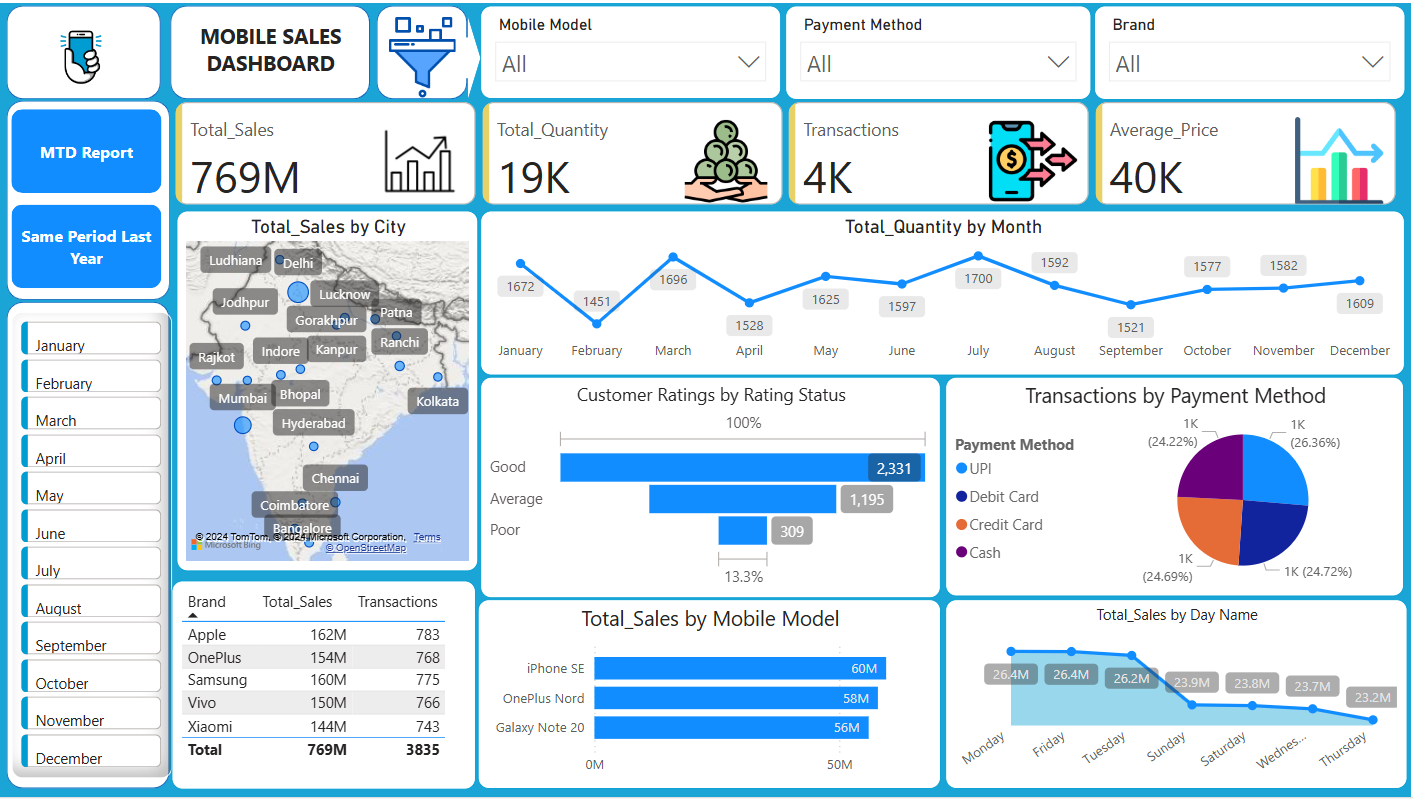

The dashboard page shown, as its layout file describes it:
{"tool":"powerbi","page":{"name":"Dashboard","canvas":[1280,720],"ordinal":0},"visuals":[{"type":"shape","box":[6.9,2.7,140,85],"z":0},{"type":"image","box":[28.8,12.4,92,72.8],"z":1000},{"type":"shape","box":[7.2,271.4,148,441.6],"z":3000},{"type":"advancedSlicerVisual","fields":{"Values":["Custom_Calender.Date.Variation.Date Hierarchy.Month"]},"box":[10.9,279.9,146,423.5],"z":4000},{"type":"cardVisual","fields":{"Data":["Sales_Data.Total_Sales","Sales_Data.Total_Quantity","Sales_Data.Transactions","Sales_Data.Average_Price"]},"box":[155.6,84.5,1119.6,103.8],"z":5000},{"type":"slicer","fields":{"Values":["Sales_Data.Mobile Model"]},"box":[436.6,2.7,273.1,85],"z":6000},{"type":"slicer","fields":{"Values":["Sales_Data.Payment Method"]},"box":[712.6,2.4,277.5,85.7],"z":7000},{"type":"slicer","fields":{"Values":["Sales_Data.Brand"]},"box":[992.9,2.4,282.3,85.7],"z":8000},{"type":"shape","box":[342,2.7,82.3,85],"z":9000},{"type":"image","box":[272,6.9,223.9,85.2],"z":10000},{"type":"shape","box":[413.8,12.1,22.9,74.8],"z":11000},{"type":"shape","box":[155.2,2.7,181.3,85],"z":12000},{"type":"textbox","box":[159.5,12.3,172.9,65.9],"z":13000},{"type":"map","fields":{"Category":["Sales_Data.City"],"Size":["Sales_Data.Total_Sales"]},"box":[160.5,188.2,273.9,326.9],"z":14000},{"type":"lineChart","fields":{"Y":["Sales_Data.Total_Quantity"],"Category":["Custom_Calender.Date.Variation.Date Hierarchy.Month"]},"box":[436.7,188.2,838.5,149.6],"z":15000},{"type":"funnel","title":"Customer Ratings by Rating Status","fields":{"Y":["CountNonNull(Sales_Data.Customer Ratings)"],"Category":["Sales_Data.Rating Status"]},"box":[436.8,339.3,417.6,200.6],"z":16000},{"type":"pieChart","fields":{"Category":["Sales_Data.Payment Method"],"Y":["Sales_Data.Transactions"]},"box":[858.6,339.3,416.2,199.2],"z":17000},{"type":"clusteredBarChart","fields":{"Y":["Sales_Data.Total_Sales"],"Category":["Sales_Data.Mobile Model"]},"box":[434.1,541.2,420.3,171.7],"z":18000},{"type":"areaChart","fields":{"Category":["Custom_Calender.Day Name"],"Y":["Sales_Data.Total_Sales"]},"box":[858.6,541.2,419,171.7],"z":19000},{"type":"tableEx","fields":{"Values":["Sales_Data.Brand","Sales_Data.Total_Sales","Sales_Data.Transactions"]},"box":[156.8,523.6,276.3,189.4],"z":20000},{"type":"shape","box":[7.2,88.1,148.4,181],"z":21000},{"type":"pageNavigator","box":[10.9,96.5,136.3,162.9],"z":22000}]}

Visuals, with their boxes in screenshot pixels (x1, y1, x2, y2), scaled from the page's 1280x720 canvas onto the 1413x799 screenshot:
shape: bbox=(8, 3, 162, 97)
image: bbox=(32, 14, 133, 95)
shape: bbox=(8, 301, 171, 791)
advancedSlicerVisual - Custom_Calender.Date.Variation.Date Hierarchy.Month: bbox=(12, 311, 173, 781)
cardVisual - Sales_Data.Total_Sales x Sales_Data.Total_Quantity: bbox=(172, 94, 1408, 209)
slicer - Sales_Data.Mobile Model: bbox=(482, 3, 783, 97)
slicer - Sales_Data.Payment Method: bbox=(787, 3, 1093, 98)
slicer - Sales_Data.Brand: bbox=(1096, 3, 1408, 98)
shape: bbox=(378, 3, 468, 97)
image: bbox=(300, 8, 547, 102)
shape: bbox=(457, 13, 482, 96)
shape: bbox=(171, 3, 371, 97)
textbox: bbox=(176, 14, 367, 87)
map - Sales_Data.City x Sales_Data.Total_Sales: bbox=(177, 209, 480, 572)
lineChart - Sales_Data.Total_Quantity x Custom_Calender.Date.Variation.Date Hierarchy.Month: bbox=(482, 209, 1408, 375)
"Customer Ratings by Rating Status" funnel: bbox=(482, 377, 943, 599)
pieChart - Sales_Data.Payment Method x Sales_Data.Transactions: bbox=(948, 377, 1407, 598)
clusteredBarChart - Sales_Data.Total_Sales x Sales_Data.Mobile Model: bbox=(479, 601, 943, 791)
areaChart - Custom_Calender.Day Name x Sales_Data.Total_Sales: bbox=(948, 601, 1410, 791)
tableEx - Sales_Data.Brand x Sales_Data.Total_Sales: bbox=(173, 581, 478, 791)
shape: bbox=(8, 98, 172, 299)
pageNavigator: bbox=(12, 107, 162, 288)
